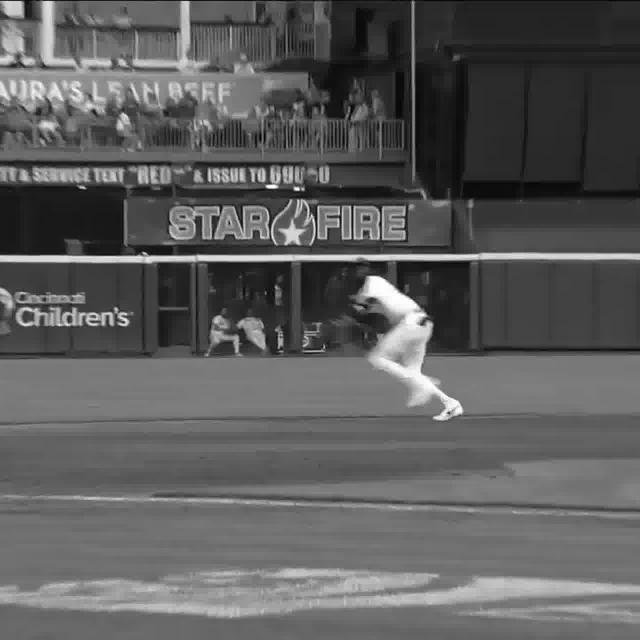shoe: (405, 382, 436, 408), (432, 402, 463, 427)
